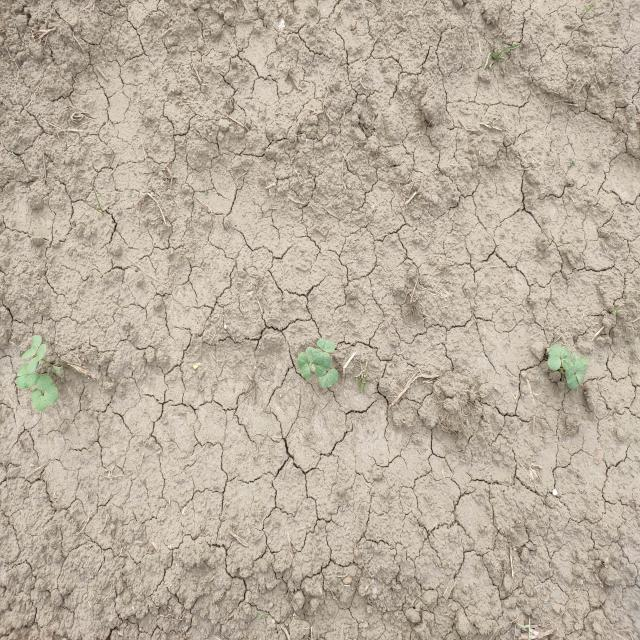seedling: (37, 375, 58, 405), (27, 344, 47, 373), (22, 335, 42, 359), (297, 352, 311, 379), (547, 344, 561, 371), (30, 389, 47, 411), (17, 373, 40, 389), (319, 369, 338, 388), (312, 349, 331, 367), (566, 364, 579, 390), (315, 359, 332, 377), (306, 347, 317, 373), (316, 338, 335, 353), (561, 347, 573, 370), (574, 360, 584, 384), (571, 354, 588, 366), (17, 363, 29, 377)
